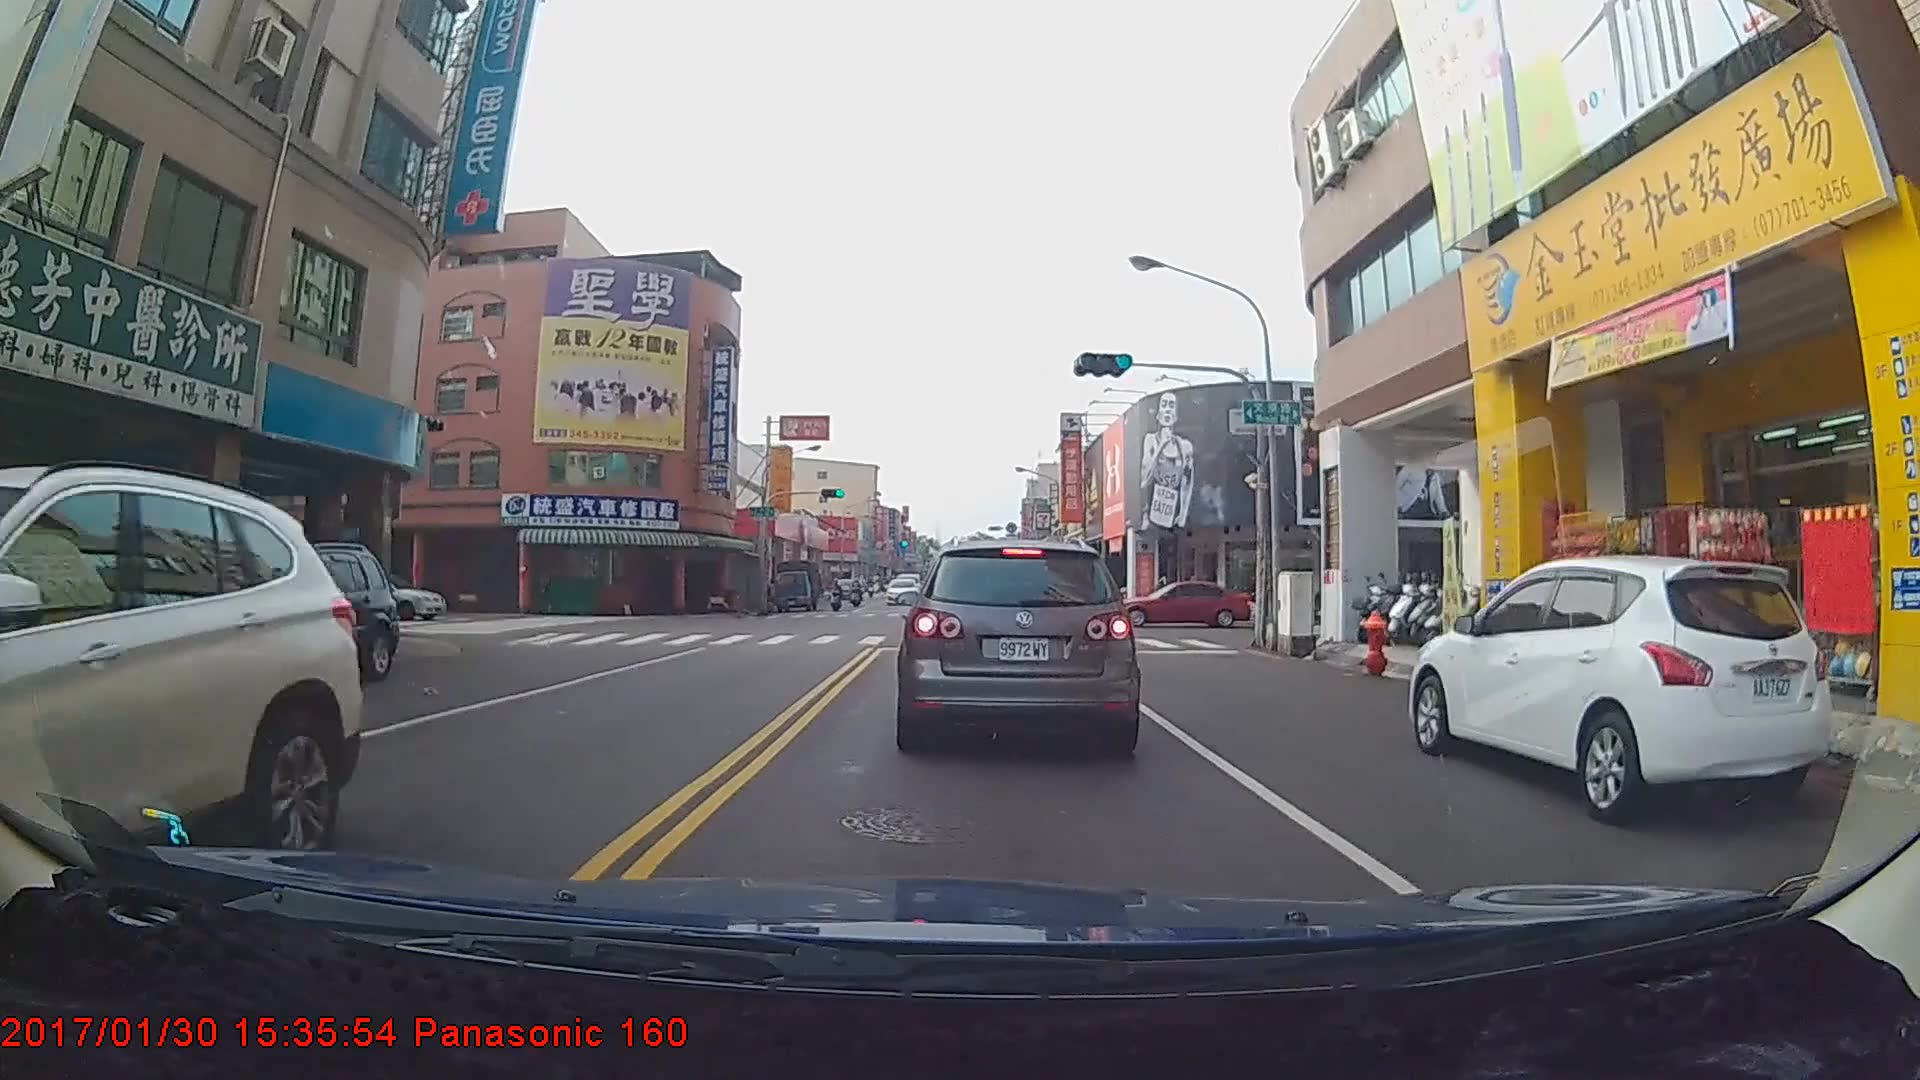rider: (823, 580, 846, 615), (847, 576, 867, 605)
vehicle: (0, 477, 378, 999), (1412, 552, 1834, 825), (896, 534, 1136, 752), (186, 542, 399, 700), (1107, 579, 1248, 631), (771, 560, 823, 614), (885, 579, 920, 609)
